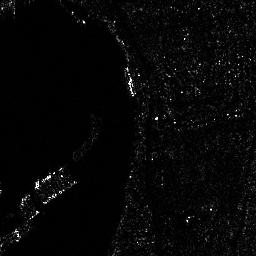ship: (123, 66, 136, 97)
